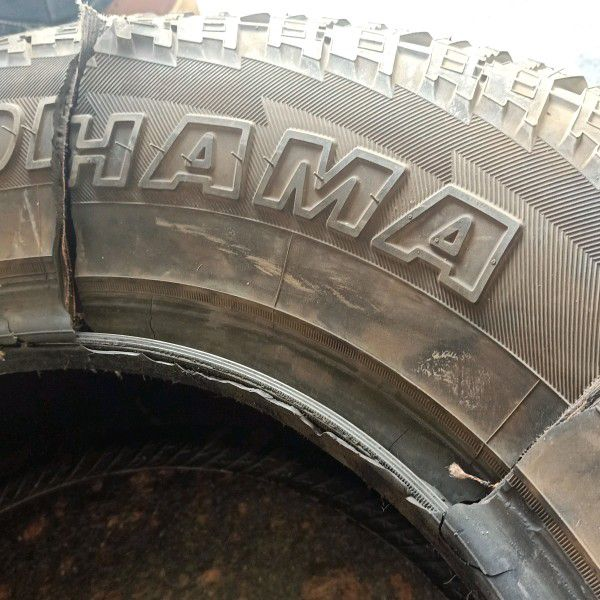bead_damage: (47, 0, 599, 595)
